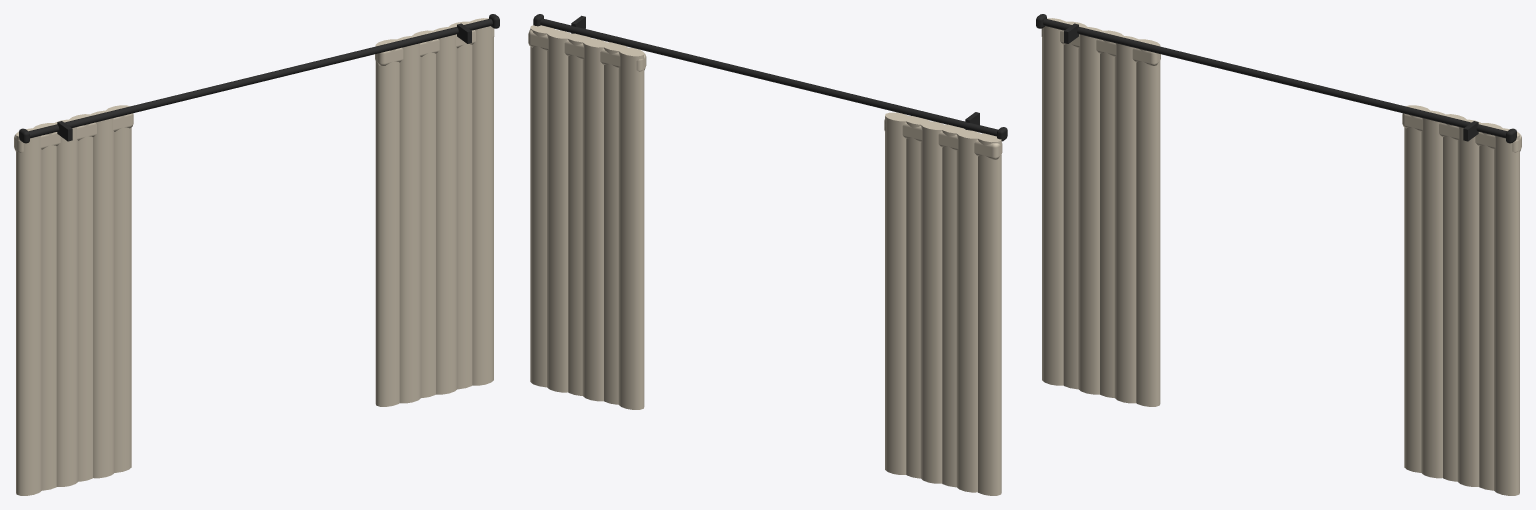
3 renders of one model, left to right at view 1: azimuth 30°, elevation 25°; view 2: azimuth 150°, elevation 25°; view 3: azimuth 330°, elevation 25°, orthographic.
Visible parts, largest first — view 1: fold-left-1, rod; view 2: fold-left-1, rod; view 3: fold-left-1, rod.
Boxes of the visible parts, box(x1,y1,x2,y2) form: fold-left-1: box(14, 18, 494, 495); rod: box(19, 14, 499, 143); fold-left-1: box(528, 25, 1002, 495); rod: box(533, 14, 1007, 141); fold-left-1: box(1041, 18, 1521, 495); rod: box(1036, 14, 1516, 143).
Size of the model in its own units: 2.1 by 1.54 by 0.16.
